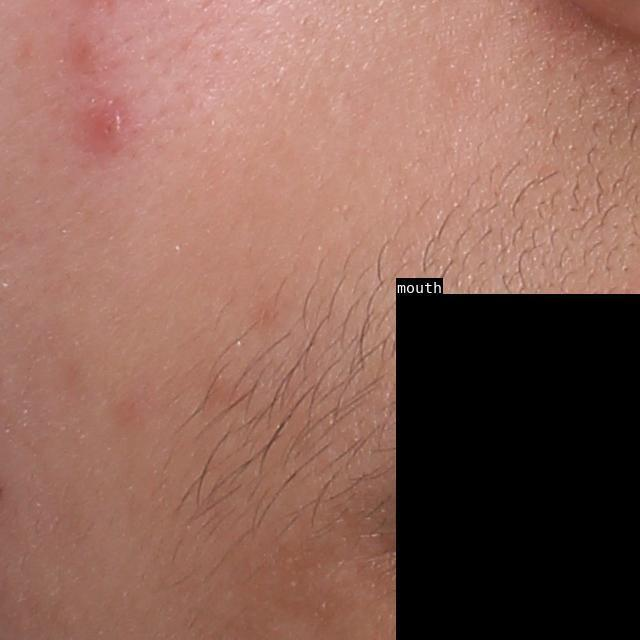papule: (81, 97, 137, 161)
